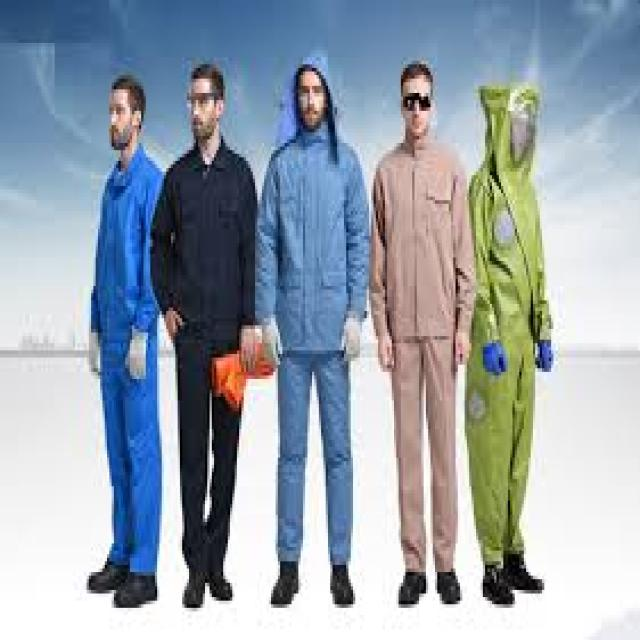vest: (261, 138, 372, 566), (374, 133, 475, 572), (151, 139, 257, 551), (473, 160, 552, 558), (92, 150, 154, 579)
